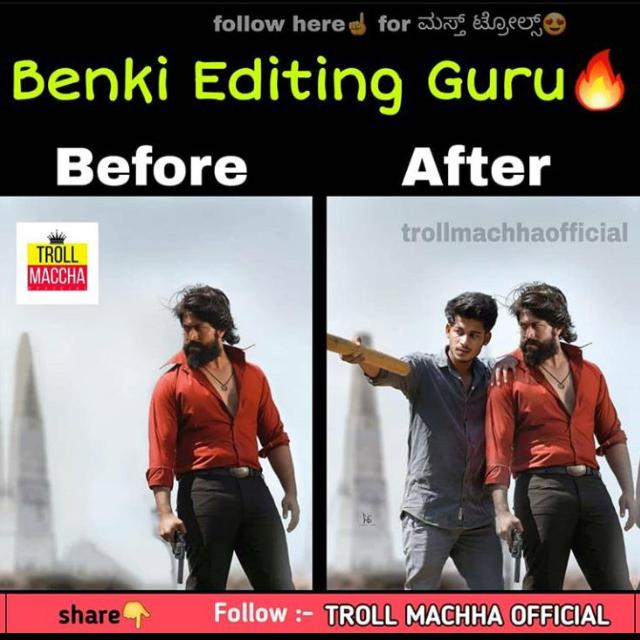person: (122, 266, 334, 566), (349, 262, 529, 578), (494, 295, 634, 559), (634, 295, 640, 559)
